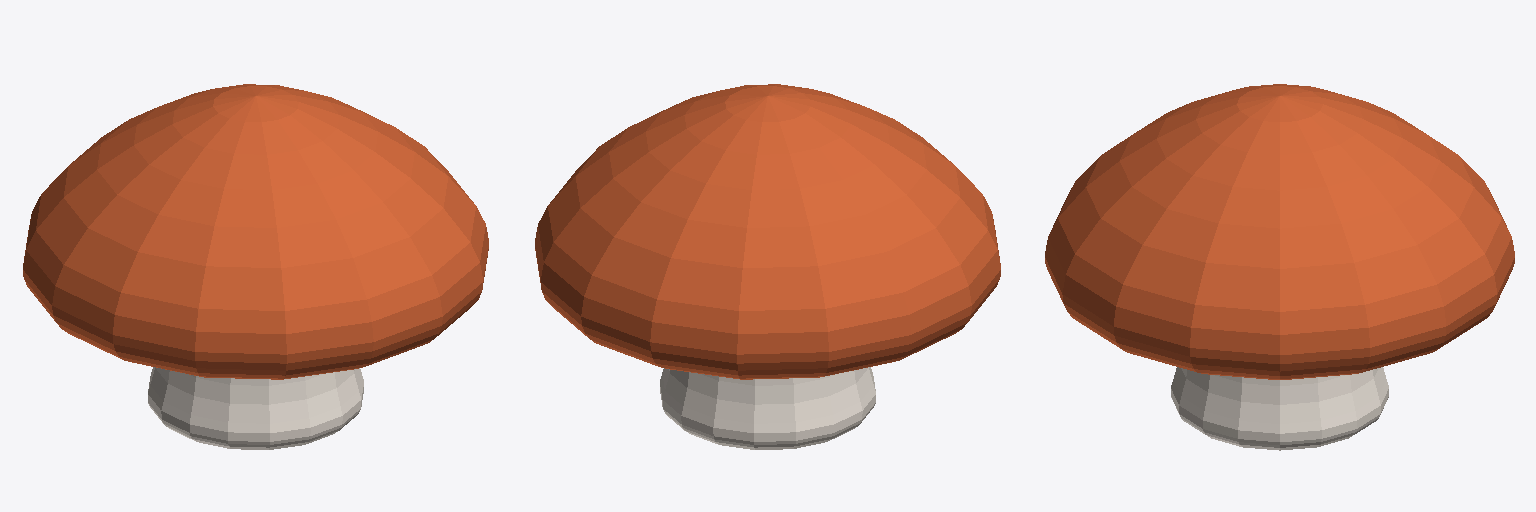
Rendered from Prop_Mushroom_1.obj.
The picture shows the model from 3 angles: view 1: azimuth 30°, elevation 25°; view 2: azimuth 150°, elevation 25°; view 3: azimuth 270°, elevation 25°; orthographic projection.
Parts seen in each view (by area): view 1: Mushroom_Top, Mushroom_Bottom; view 2: Mushroom_Top, Mushroom_Bottom; view 3: Mushroom_Top, Mushroom_Bottom.
Boxes of the visible parts, box(x1,y1,x2,y2) form: Mushroom_Top: box(23, 84, 488, 379); Mushroom_Bottom: box(148, 367, 363, 449); Mushroom_Top: box(535, 84, 1000, 379); Mushroom_Bottom: box(660, 367, 875, 449); Mushroom_Top: box(1045, 84, 1514, 379); Mushroom_Bottom: box(1171, 367, 1388, 450).
Bounding box in the file's own units: 1 × 0.75 × 1.